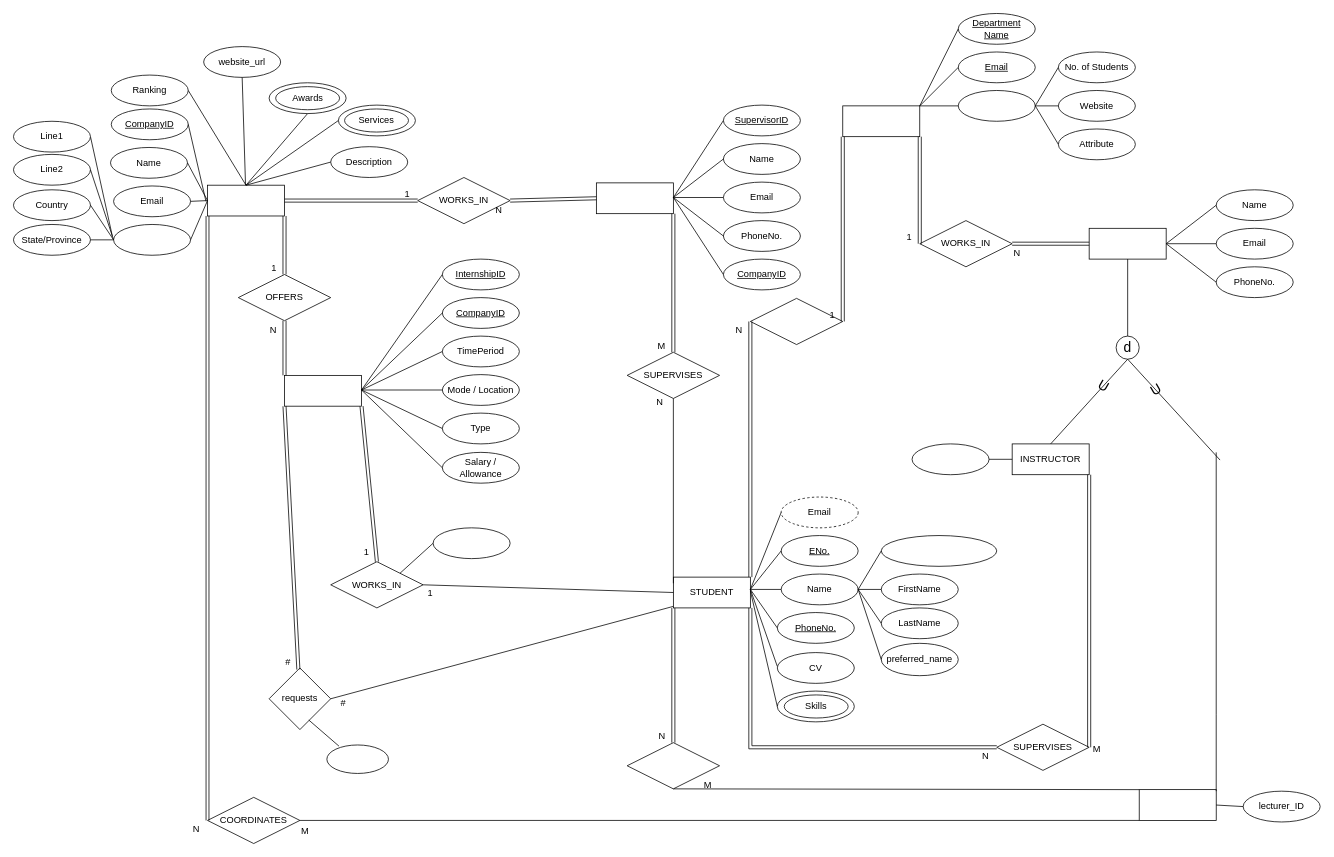
Image size: 1334x857. Some labels were removed from this diagram. Each missing label, with the box of its shape:
Address: (113, 224, 191, 255)
COMPANY: (207, 184, 285, 216)
date: (326, 744, 388, 773)
DEPARTMENT: (842, 105, 920, 137)
GUIDES: (626, 742, 720, 789)
instructor_ID: (911, 443, 989, 475)
INTERNSHIP: (284, 375, 362, 406)
LECTURER: (1138, 789, 1216, 820)
Profile: (957, 90, 1035, 121)
STAFF: (1088, 228, 1166, 259)
start_date: (432, 527, 510, 559)
STUDIES_IN: (750, 298, 843, 345)
SUPREVISOR: (596, 182, 673, 214)
SurnameWithInitials: (880, 535, 997, 566)
